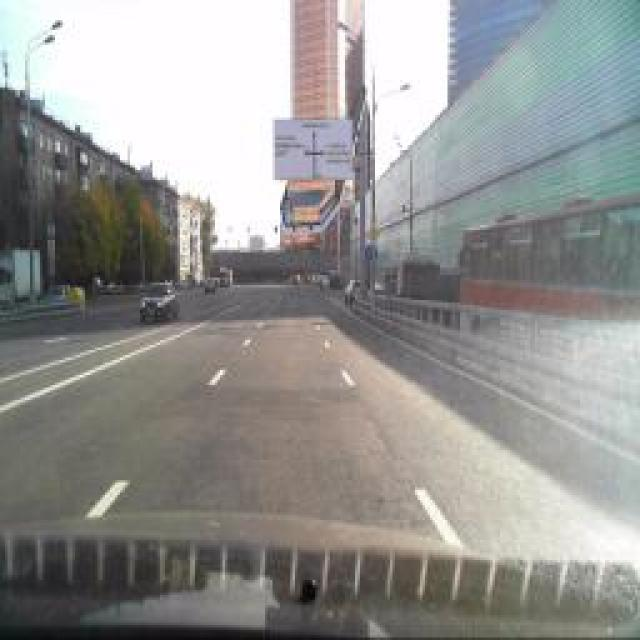sign: (368, 245, 380, 265)
